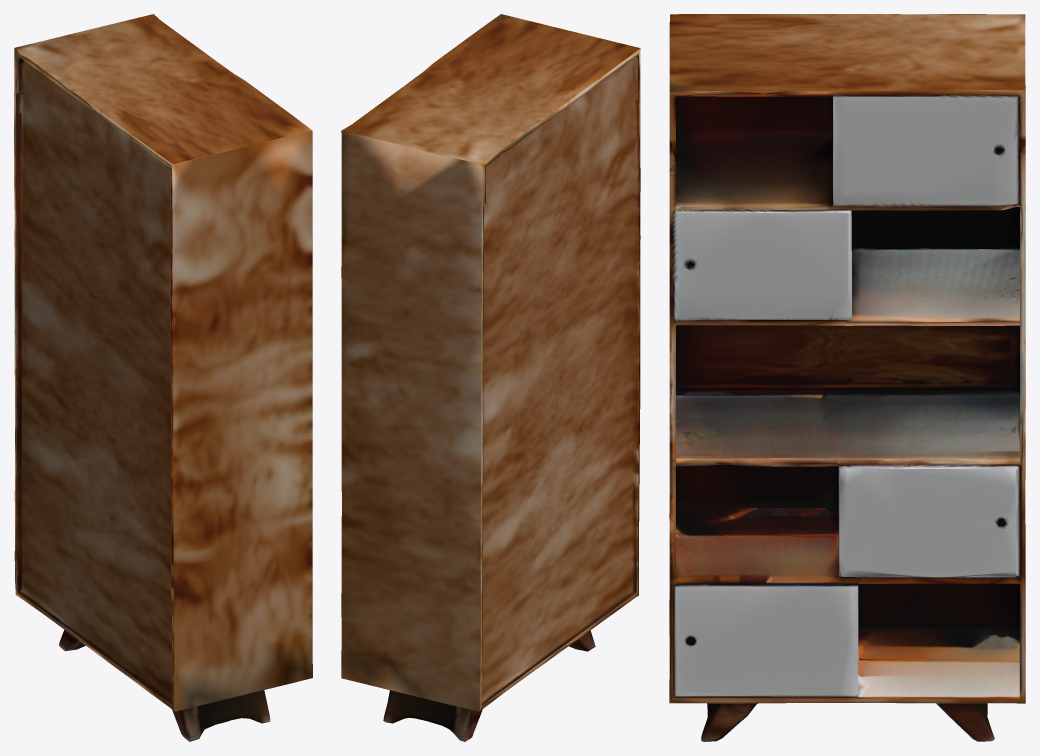
Rendered from mueble 5.fbx.
3 renders of one model, left to right at view 1: azimuth 30°, elevation 25°; view 2: azimuth 150°, elevation 25°; view 3: azimuth 270°, elevation 25°, orthographic. The views are drawn at different scales.
Parts seen in each view (by area): view 1: tripo_node_f41c9d5e; view 2: tripo_node_f41c9d5e; view 3: tripo_node_f41c9d5e.
Part boxes in pixels (x1=…): tripo_node_f41c9d5e: x1=14, y1=14, x2=312, y2=741; tripo_node_f41c9d5e: x1=341, y1=14, x2=640, y2=741; tripo_node_f41c9d5e: x1=669, y1=14, x2=1025, y2=741.
Bounding box in the file's own units: 0.247 × 0.9999 × 0.4844.
1 material, 1 textured.
